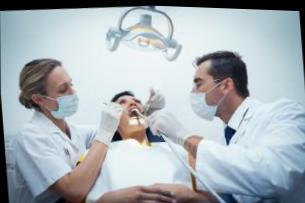NONE: (118, 93, 149, 131)
OK: (185, 71, 220, 121)
WRONG: (47, 74, 80, 121)
